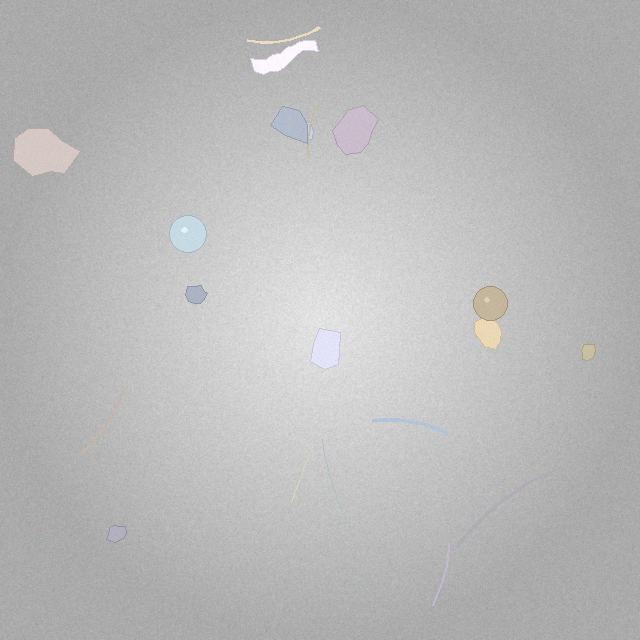fiber: (453, 465, 563, 551), (74, 388, 125, 459), (320, 438, 353, 531), (368, 415, 452, 439), (245, 24, 323, 46), (290, 444, 315, 505), (430, 542, 451, 607), (305, 100, 321, 160)
film: (250, 40, 319, 75)
fragment: (14, 128, 81, 176), (333, 106, 379, 155), (271, 106, 308, 143), (310, 328, 341, 370), (474, 317, 502, 349), (186, 285, 208, 303), (107, 525, 127, 543), (300, 123, 314, 141), (582, 344, 596, 360)
pellet: (170, 215, 207, 252), (473, 286, 508, 321)
